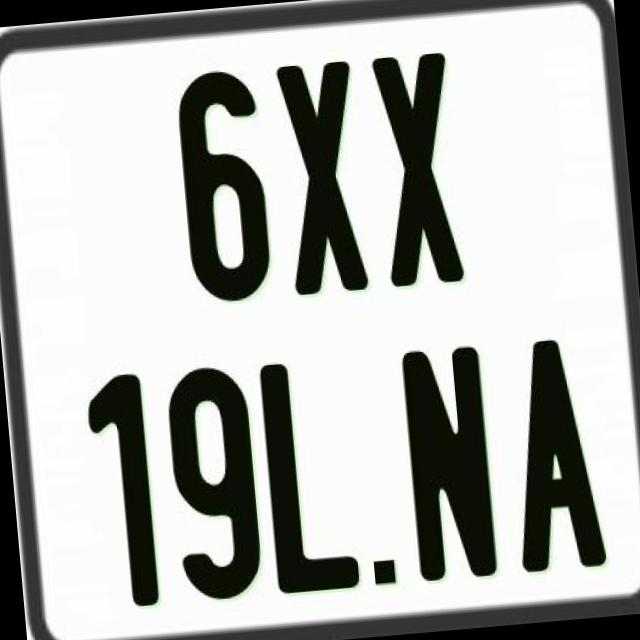1: (84, 368, 165, 606)
6: (170, 63, 277, 310)
9: (160, 362, 268, 600)
A: (498, 334, 602, 569)
L: (254, 356, 362, 597)
N: (398, 342, 500, 580)
X: (372, 48, 472, 293), (275, 56, 375, 296)
